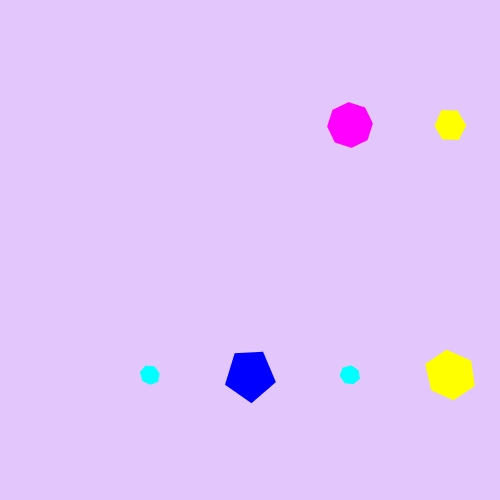heptagon: (136, 361, 165, 389), (336, 361, 365, 389)
hexagon: (420, 350, 481, 400), (429, 108, 471, 143)
octagon: (324, 99, 377, 152)
pentagon: (222, 347, 279, 404)
